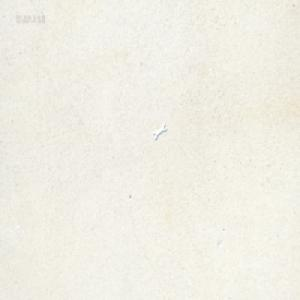Wrench: (152, 123, 167, 139)
